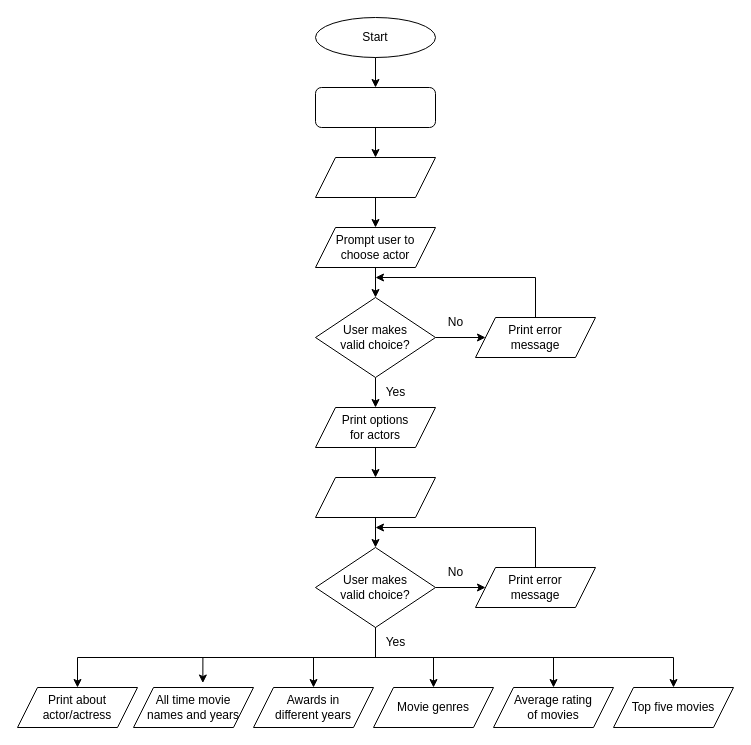
Image size: 751x745. Some labels were removed from this diagram. The shapes that lost their labels are listed below. From the top down, each one's centre as x and y in pixels, then its label:
the point at 375,107: Create database connection
the point at 375,177: Print actors list
the point at 375,497: Prompt user to choose option
